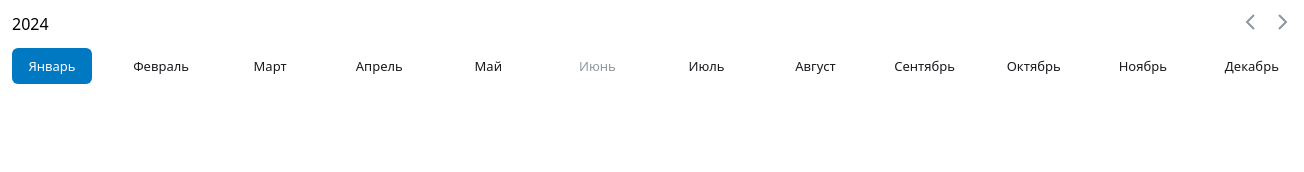
Компонент CalendarYear › При клике на неактивную ячейку появляется попап
The image size is (1304, 172).
Expected: the text "Месяц недоступен для выбора" is not shown
Click the element showing "Июнь" at (597, 66), box [579, 57, 616, 75]
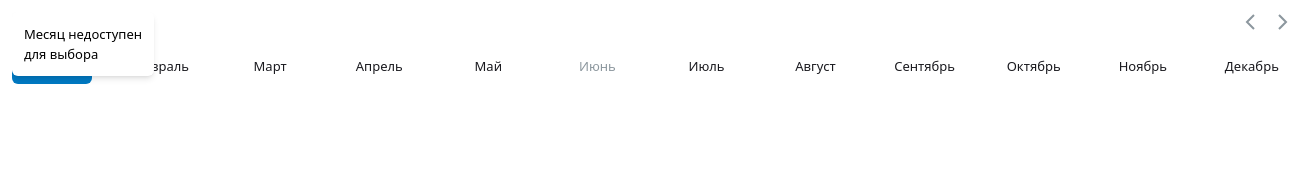
Now the text "Месяц недоступен для выбора" is shown, box [24, 25, 142, 63]
